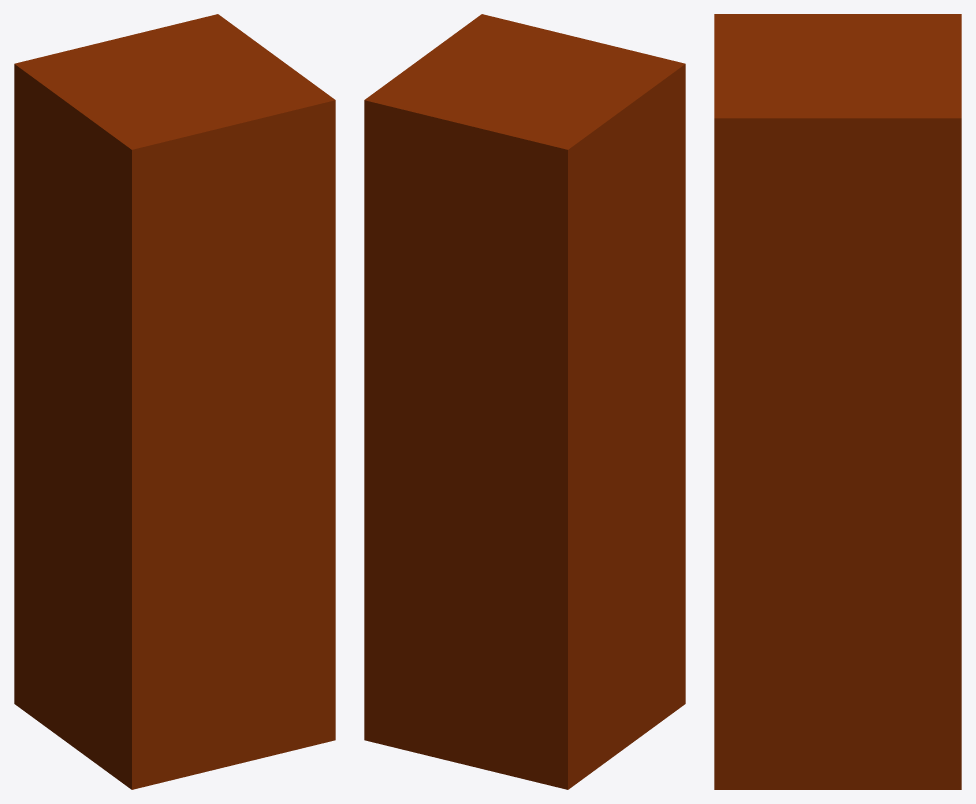
Rendered from libraryBlockCorner.obj.
The picture shows the model from 3 angles, left to right: view 1: azimuth 30°, elevation 25°; view 2: azimuth 150°, elevation 25°; view 3: azimuth 270°, elevation 25°; orthographic projection. The views are drawn at different scales.
Size of the model in its own units: 4 by 12 by 4.
Materials: 1 (1 with a texture image).
